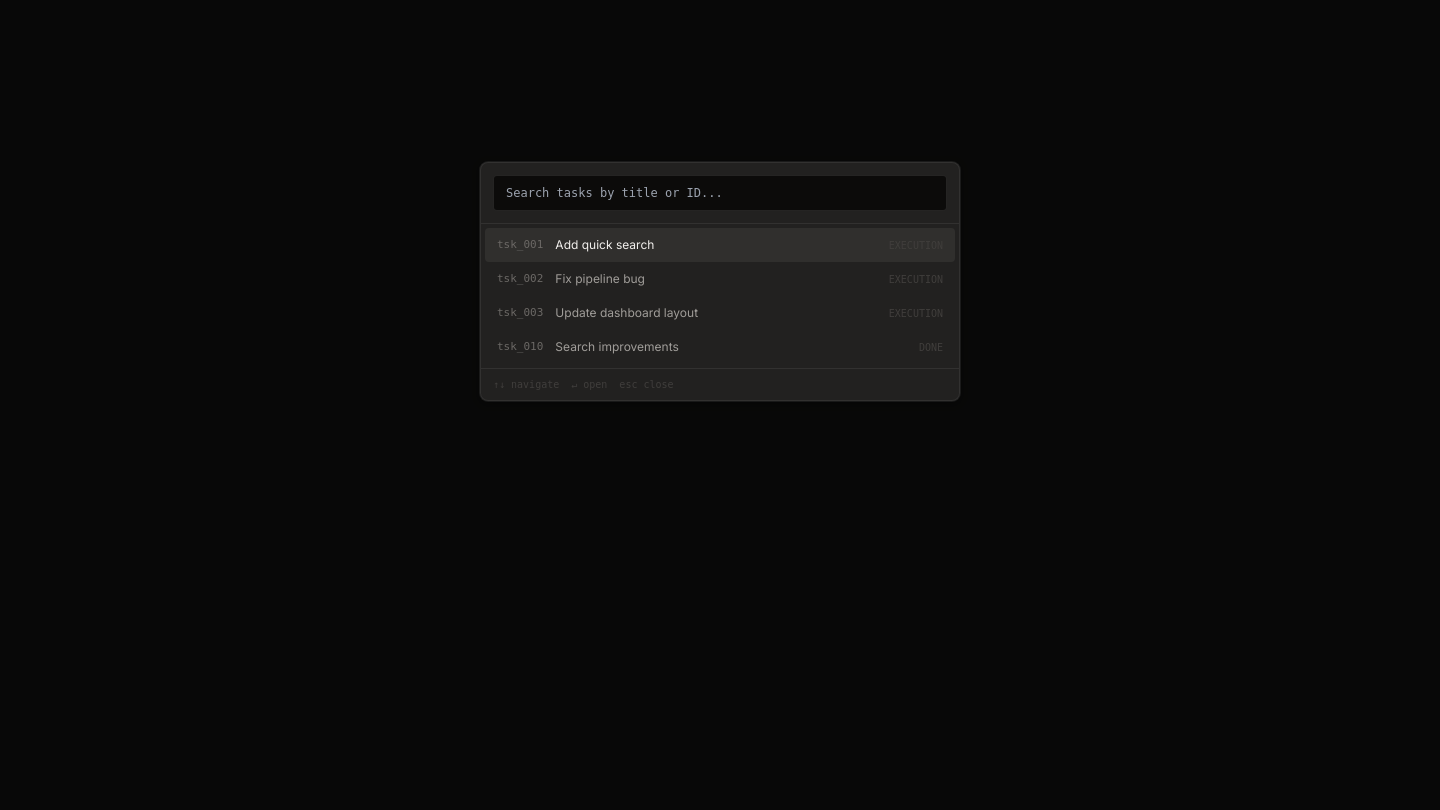
Test case: QuickSearch › filters by title (partial match, case-insensitive)
The width and height of the screenshot is (1440, 810).
Type "search" into the field with placeholder "Search tasks by title or ID..." at (720, 193), box [493,175,947,211]
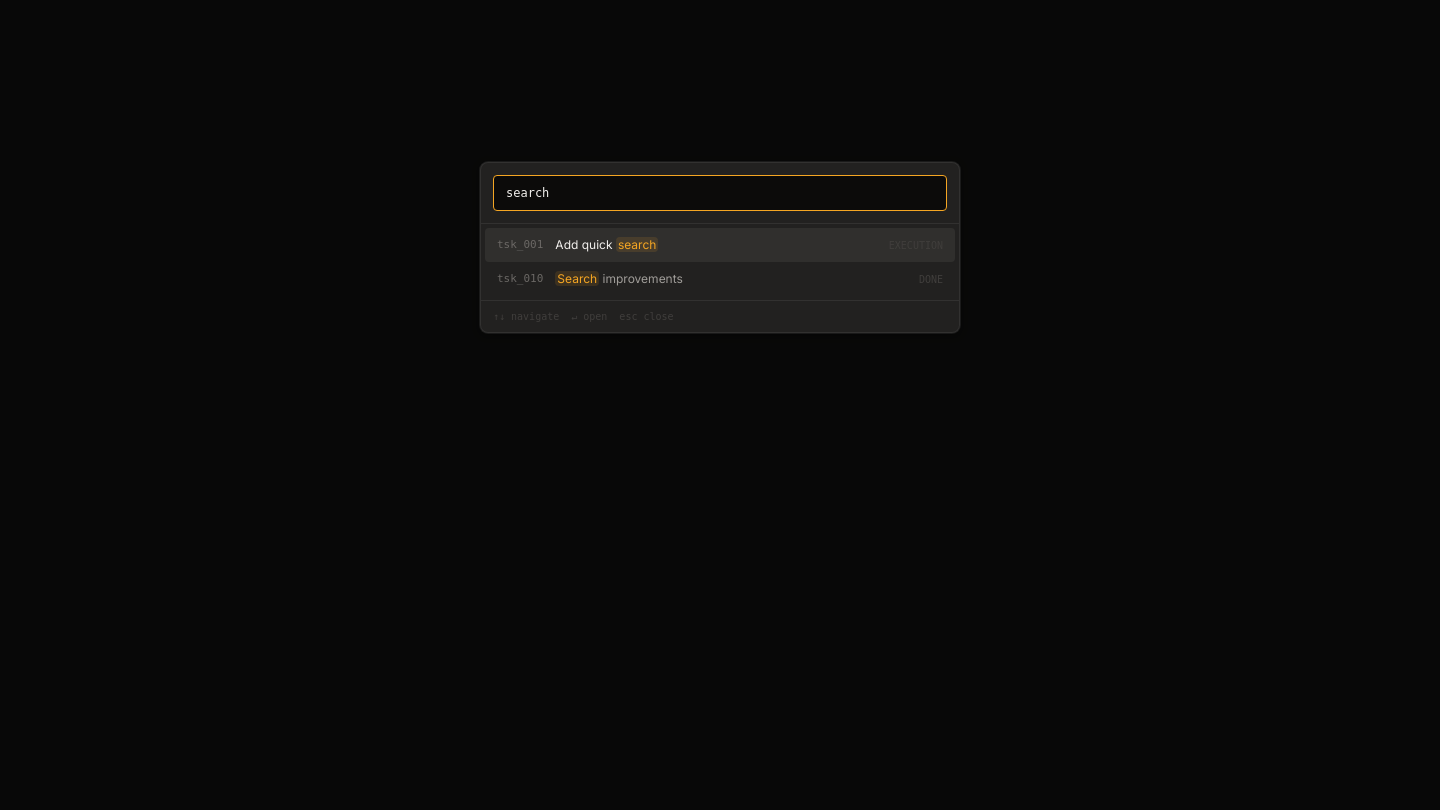
Expected: the number of buttons with test id "quick-search-result" is 2, [485,228,955,262]; [485,262,955,296]
Expected: the button "Fix pipeline bug" is gone
